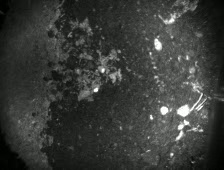corn: (153, 36, 164, 53), (95, 65, 107, 74), (90, 84, 100, 92)
